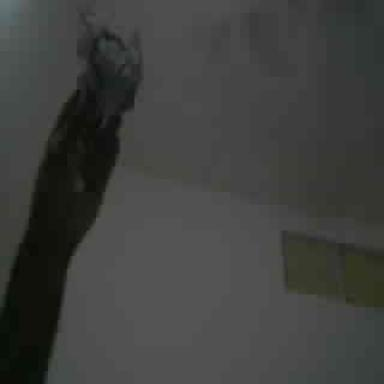paper: (79, 13, 140, 130)
